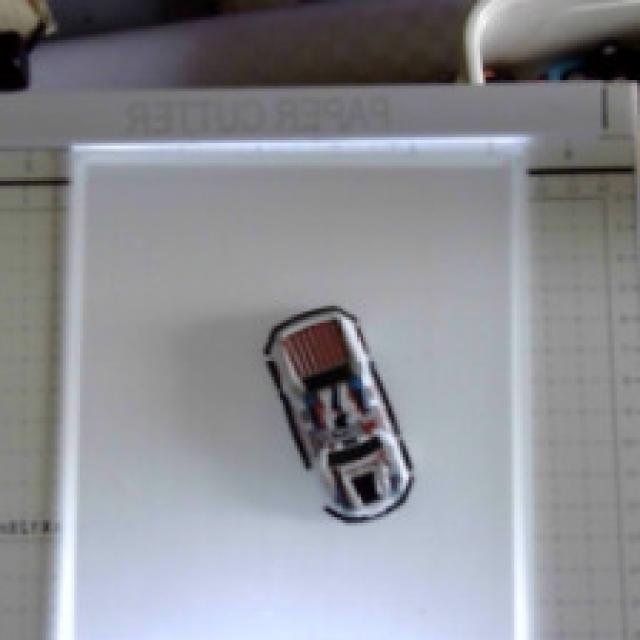Grey Car: (231, 273, 470, 572)
